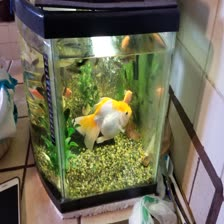Cuezo: (71, 93, 137, 147)
